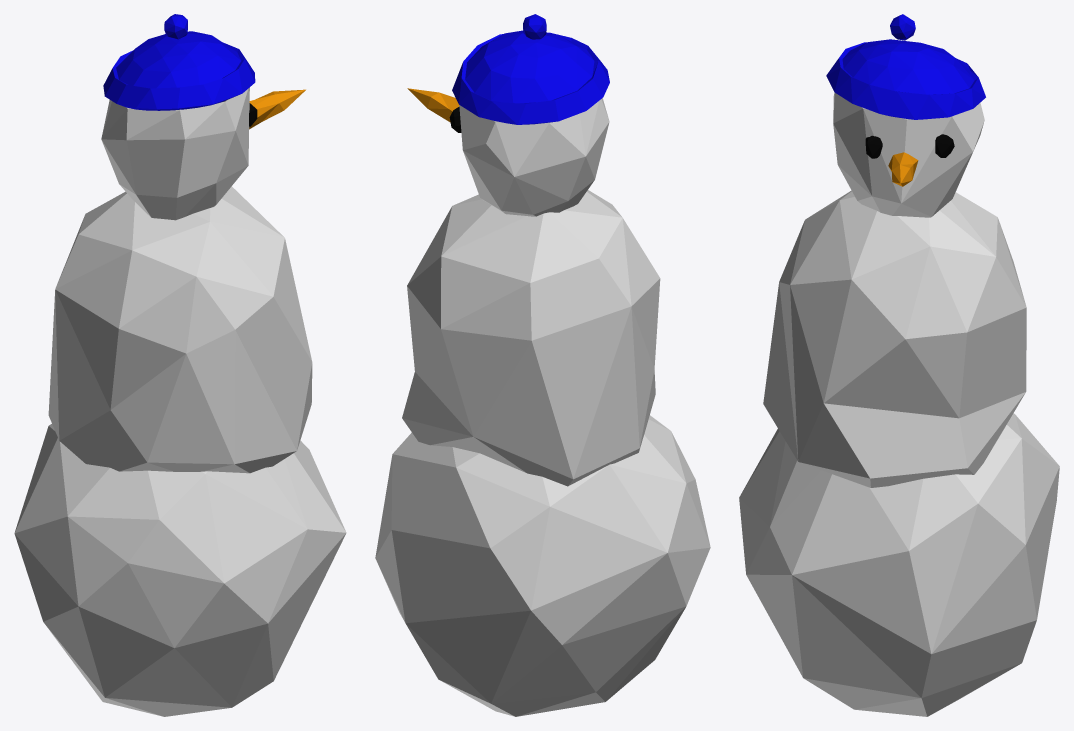
Rendered from SNOWMAN.fbx.
3 views of the same model, side by side, from view 1: azimuth 30°, elevation 25°; view 2: azimuth 150°, elevation 25°; view 3: azimuth 270°, elevation 25° (orthographic).
Parts seen in each view (by area): view 1: Sphere, Sphere.001, Sphere.005, Sphere.002, Cone; view 2: Sphere, Sphere.001, Sphere.005, Sphere.002, Cone; view 3: Sphere, Sphere.001, Sphere.005, Sphere.002, Cone, Sphere.004.
Part boxes in pixels (left/top/right/bottom): Sphere: left=14, top=424, right=346, bottom=716; Sphere.001: left=48, top=186, right=312, bottom=473; Sphere.005: left=101, top=87, right=249, bottom=220; Sphere.002: left=103, top=14, right=255, bottom=110; Cone: left=249, top=89, right=305, bottom=129; Sphere: left=375, top=415, right=710, bottom=716; Sphere.001: left=402, top=190, right=660, bottom=486; Sphere.005: left=459, top=98, right=609, bottom=216; Sphere.002: left=452, top=14, right=609, bottom=124; Cone: left=407, top=88, right=459, bottom=122; Sphere: left=739, top=413, right=1059, bottom=716; Sphere.001: left=763, top=190, right=1026, bottom=487; Sphere.005: left=833, top=92, right=984, bottom=217; Sphere.002: left=826, top=14, right=985, bottom=119; Cone: left=888, top=152, right=918, bottom=186; Sphere.004: left=865, top=134, right=954, bottom=158.
Size of the model in its own units: 196 by 438 by 186.
